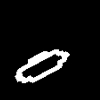chain: (15, 50, 69, 82)
